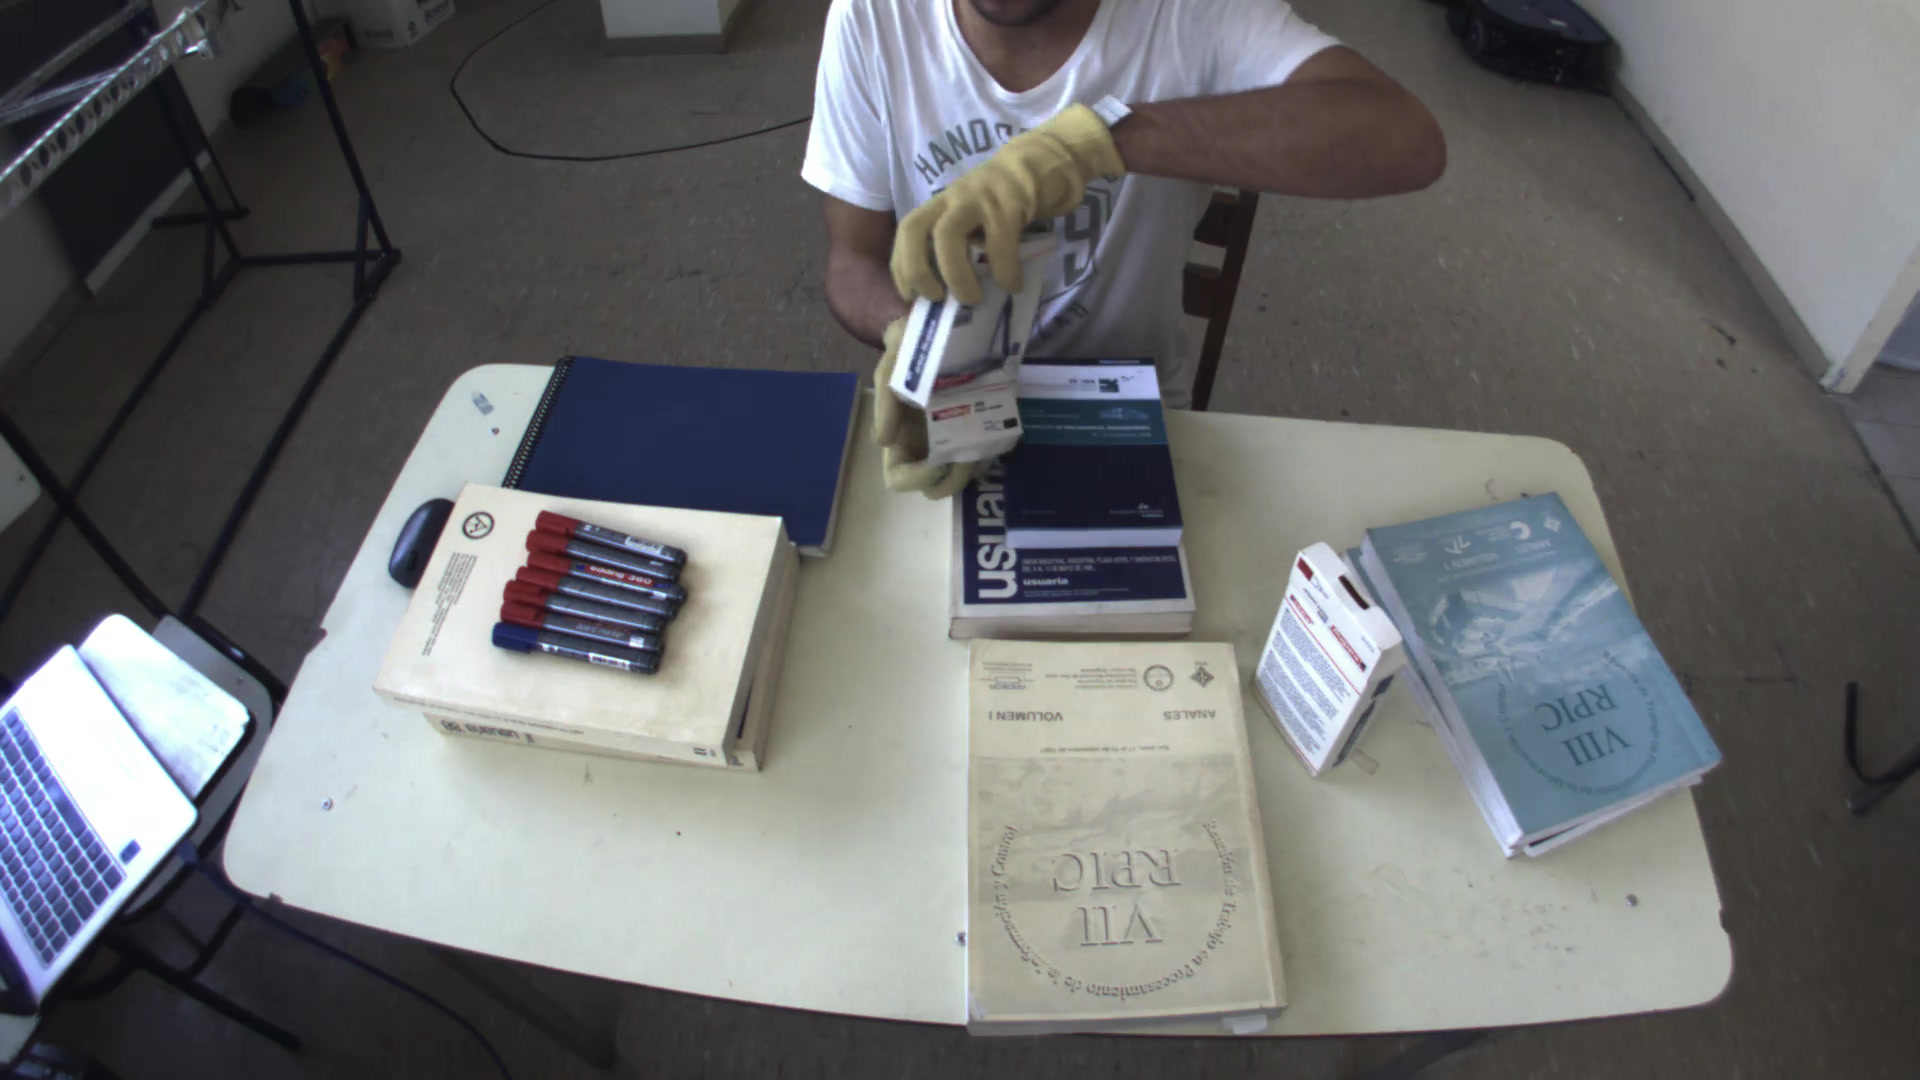hand: (880, 98, 1131, 306), (856, 342, 1002, 504)
